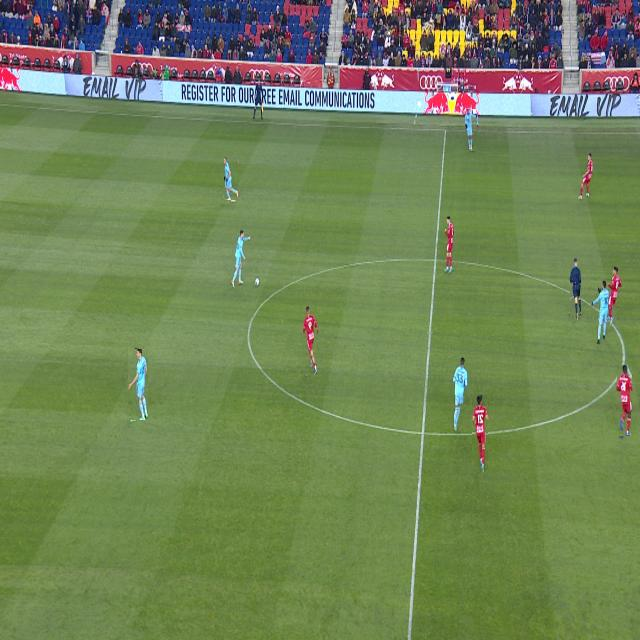football: (255, 278, 260, 287)
player: (128, 349, 148, 420), (473, 395, 488, 472), (591, 281, 609, 343), (453, 358, 468, 430), (617, 366, 632, 436), (232, 230, 250, 287), (304, 307, 317, 375), (608, 267, 621, 325), (579, 154, 593, 199), (224, 158, 238, 200), (444, 217, 454, 273), (466, 109, 477, 150)
referee: (570, 259, 581, 320)
